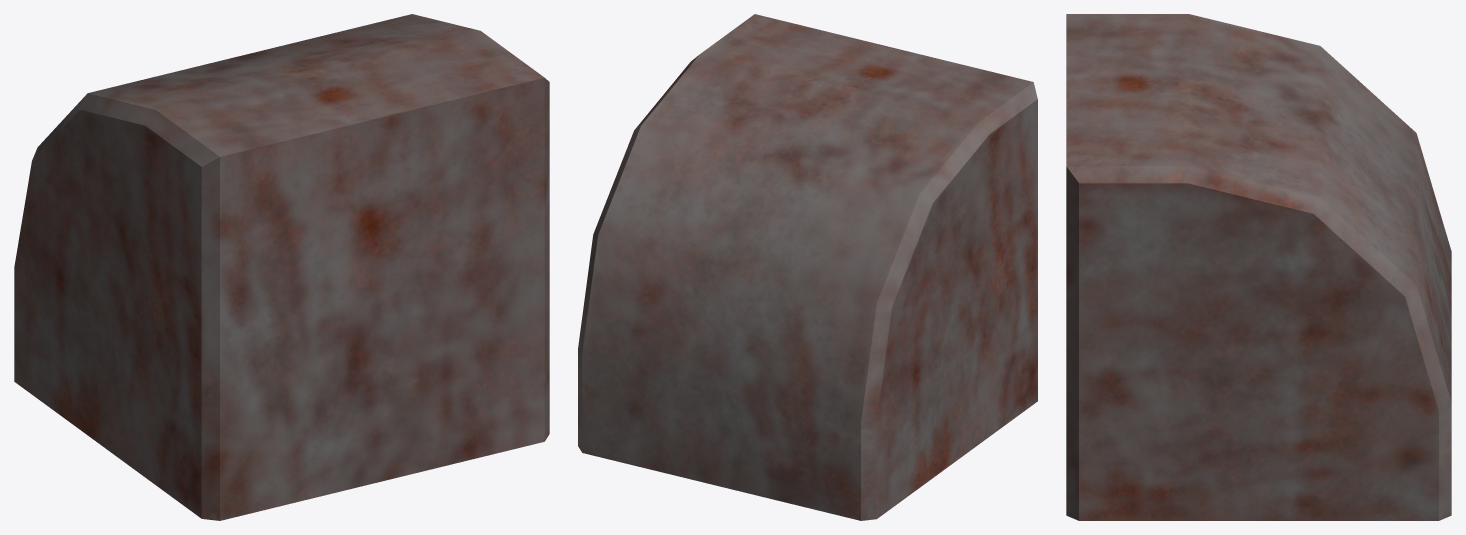
File: _road1.fbx
The picture shows the model from 3 angles, left to right: view 1: azimuth 30°, elevation 25°; view 2: azimuth 150°, elevation 25°; view 3: azimuth 270°, elevation 25°; orthographic projection. The views are drawn at different scales.
Parts seen in each view (by area): view 1: Road1.003; view 2: Road1.003; view 3: Road1.003.
Part boxes in pixels (x1,y1,x2,y2): Road1.003: (14,14,549,520); Road1.003: (578,14,1037,520); Road1.003: (1066,14,1451,520).
Bounding box in the file's own units: 10000 × 10000 × 10000.
